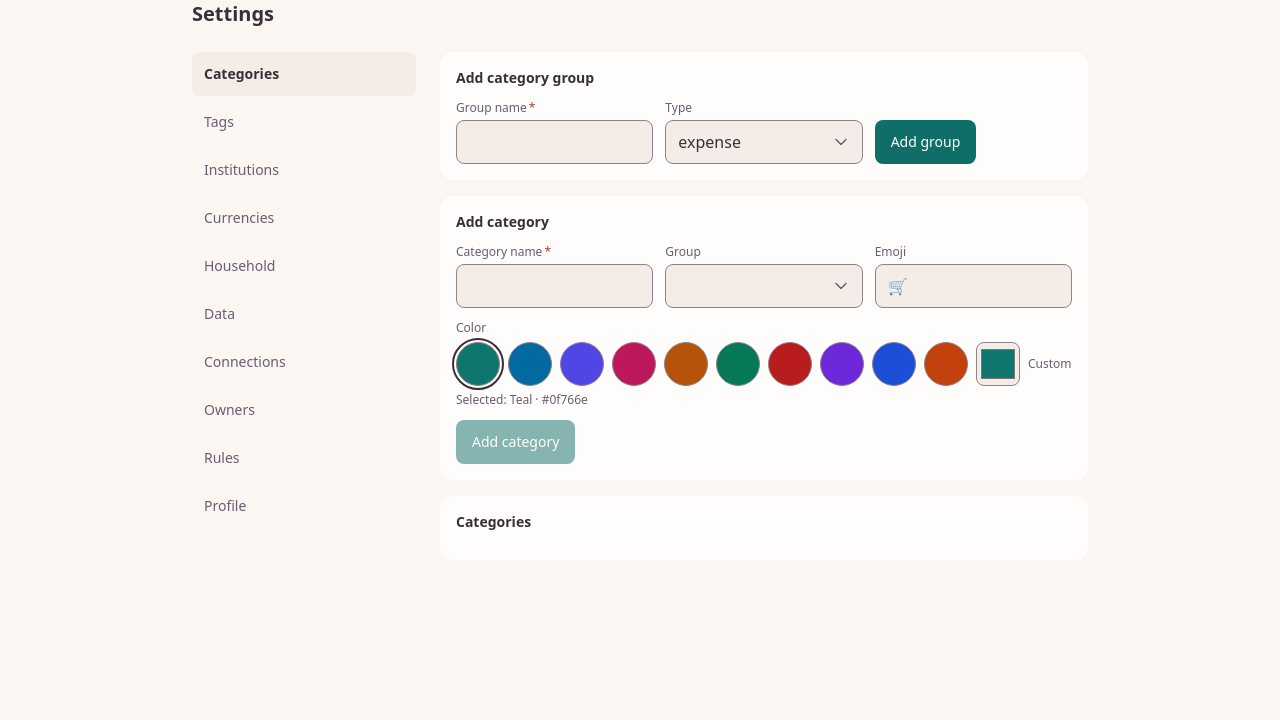
Test: Settings → Owners → Income & pay › opens the dialog for the owner whose button was pressed, and closes it
Click the tab "Owners".
click(304, 410)  # box [192,388,416,432]
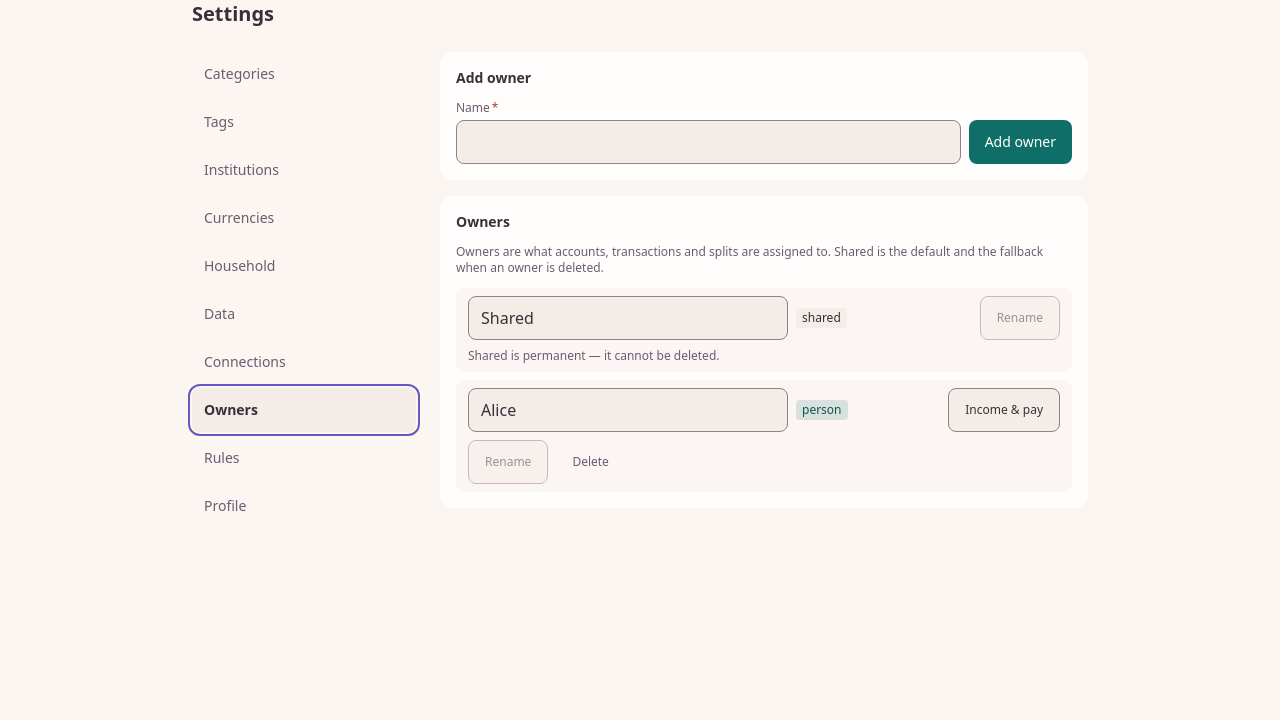
Click the button "Income & pay".
click(1004, 410)  # box [948,388,1060,432]
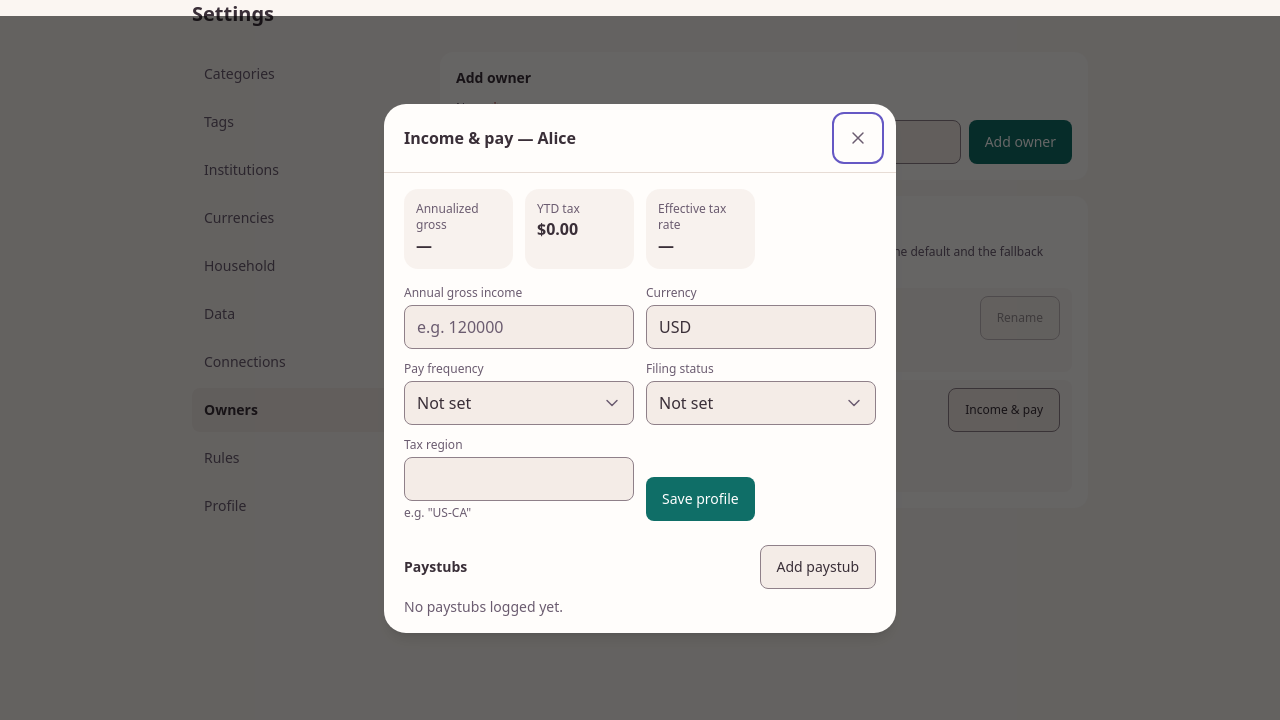
Result: the dialog with test id "income-dialog" shows "Income & pay — Alice" at [404,126,576,148]
Click the button named "close".
click(858, 138)  # box [836,116,880,160]
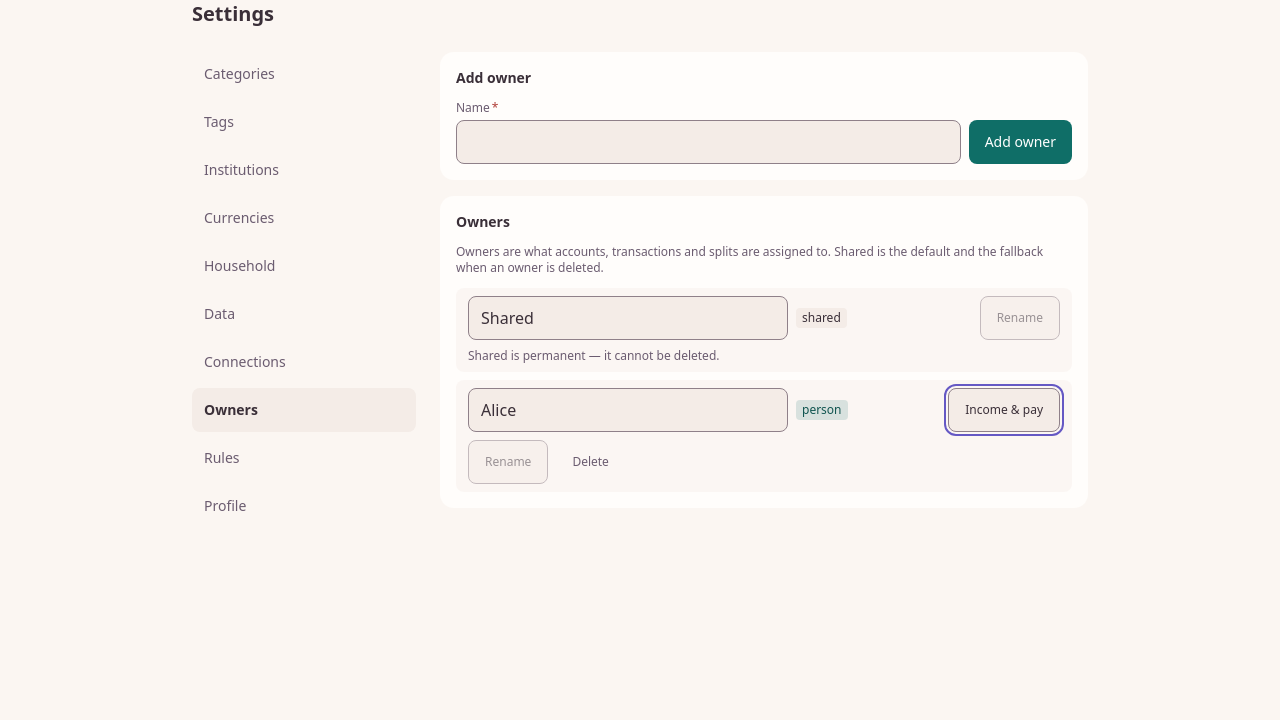
Result: the dialog with test id "income-dialog" is gone
